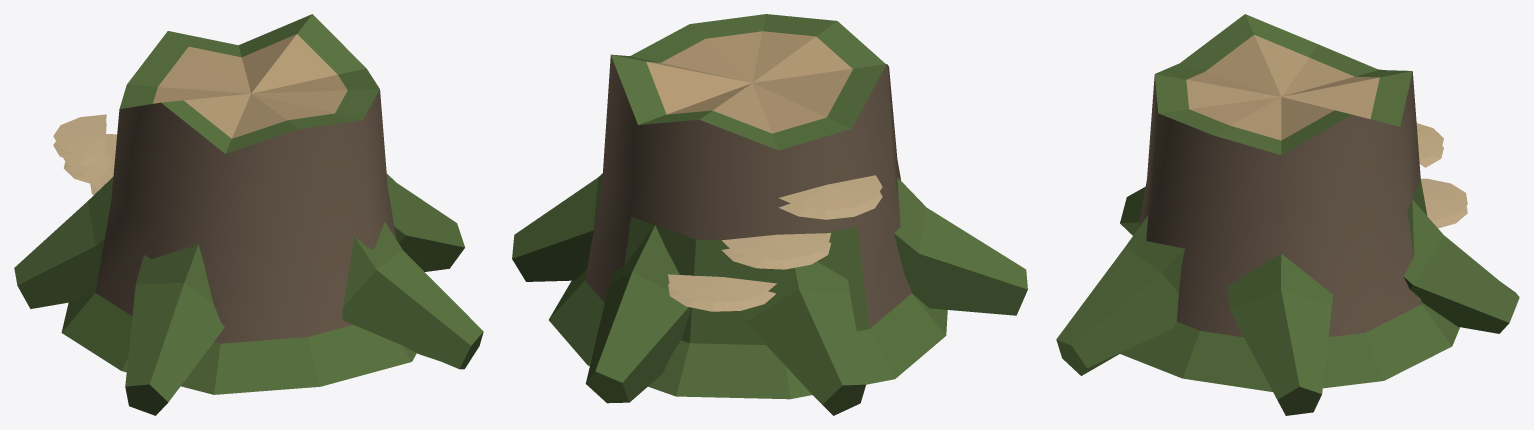
The model's file is mossy-stump.glb.
3 renders of one model, left to right at view 1: azimuth 30°, elevation 25°; view 2: azimuth 150°, elevation 25°; view 3: azimuth 270°, elevation 25°, orthographic. The views are drawn at different scales.
Visible parts, largest first — view 1: prop_mossy-stump_LOD0; view 2: prop_mossy-stump_LOD0; view 3: prop_mossy-stump_LOD0.
Part boxes in pixels (<box>): prop_mossy-stump_LOD0: <box>14,14,483,415</box>; prop_mossy-stump_LOD0: <box>512,14,1027,415</box>; prop_mossy-stump_LOD0: <box>1056,14,1519,415</box>.
Bounding box in the file's own units: 2.33 × 1.42 × 2.33.
